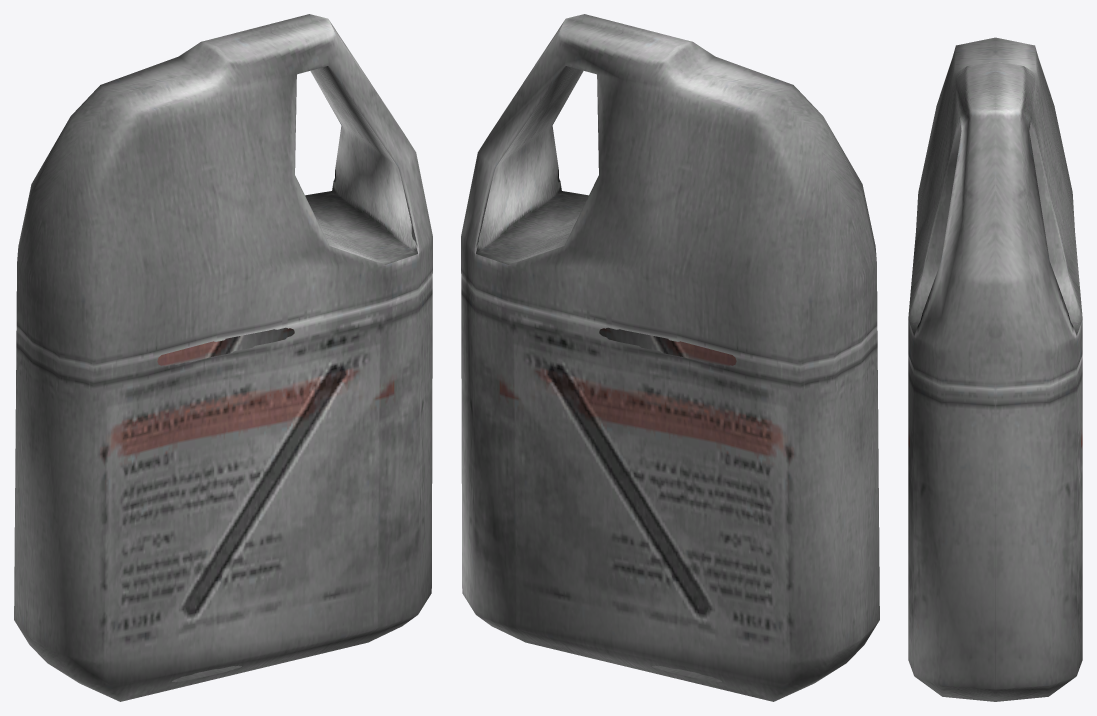
The model's file is jug.dae.
3 renders of one model, left to right at view 1: azimuth 30°, elevation 25°; view 2: azimuth 150°, elevation 25°; view 3: azimuth 270°, elevation 25°, orthographic. The views are drawn at different scales.
Parts seen in each view (by area): view 1: plastic_jug; view 2: plastic_jug; view 3: plastic_jug.
Boxes of the visible parts, <box> form: plastic_jug: <box>14,14,432,701</box>; plastic_jug: <box>461,14,879,701</box>; plastic_jug: <box>908,37,1082,701</box>.
Size of the model in its own units: 0.3236 by 0.4942 by 0.1361.
